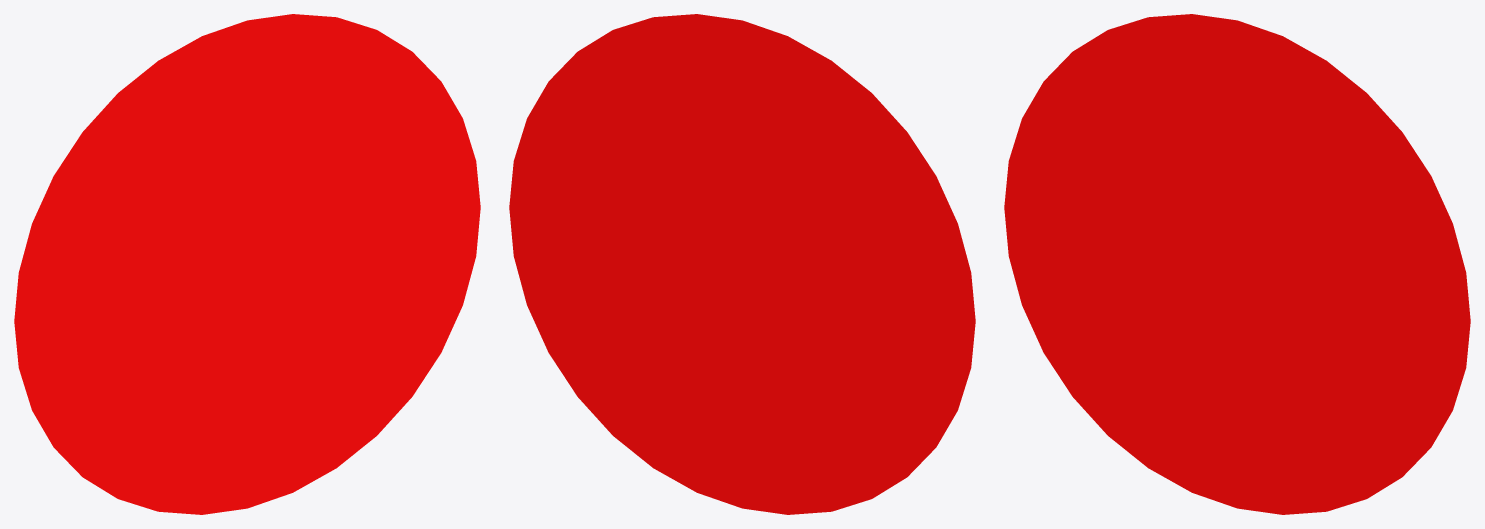
File: removeIcon.glb
3 views of the same model, side by side, from view 1: azimuth 30°, elevation 25°; view 2: azimuth 150°, elevation 25°; view 3: azimuth 330°, elevation 25° (orthographic).
Visible parts, largest first — view 1: removeHanger-Hanger_Rail_Single; view 2: removeHanger-Hanger_Rail_Single; view 3: removeHanger-Hanger_Rail_Single.
Boxes of the visible parts, x1,y1,x2,y2 form: removeHanger-Hanger_Rail_Single: [14, 14, 480, 514]; removeHanger-Hanger_Rail_Single: [509, 14, 975, 514]; removeHanger-Hanger_Rail_Single: [1004, 14, 1470, 514].
Bounding box in the file's own units: 40 × 40 × 0.
